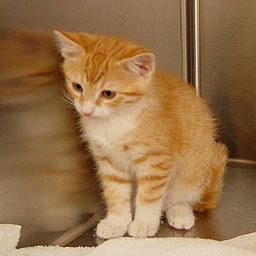cat: (44, 23, 236, 239)
